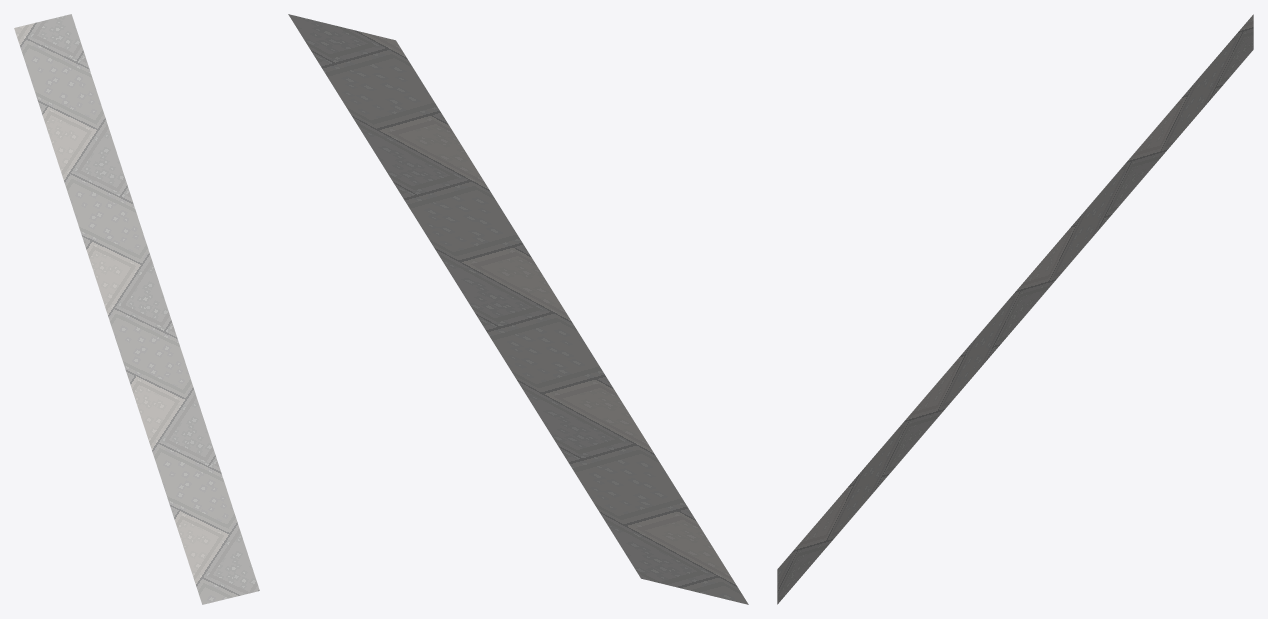
File: kd_stage_135d18_1_14_bounded.glb
3 renders of one model, left to right at view 1: azimuth 30°, elevation 25°; view 2: azimuth 150°, elevation 25°; view 3: azimuth 270°, elevation 25°, orthographic. The views are drawn at different scales.
Visible parts, largest first — view 1: kd_stage_135d18_1_14_bounded; view 2: kd_stage_135d18_1_14_bounded; view 3: kd_stage_135d18_1_14_bounded.
Part boxes in pixels (box(x1,y1,x2,y2)): kd_stage_135d18_1_14_bounded: box(14, 14, 259, 604); kd_stage_135d18_1_14_bounded: box(288, 14, 748, 604); kd_stage_135d18_1_14_bounded: box(777, 14, 1253, 604).
Size of the model in its own units: 0.4299 by 3.13 by 2.44.
Materials: 1 (1 with a texture image).
